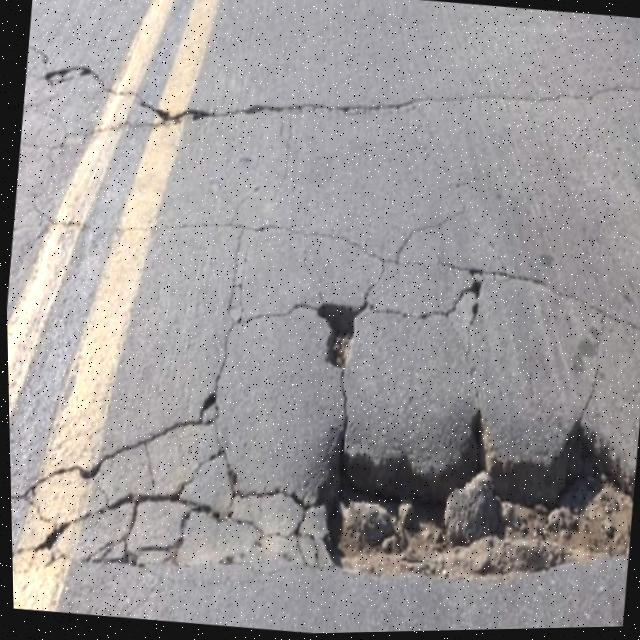Pothole: (287, 386, 640, 633), (302, 281, 363, 381)
